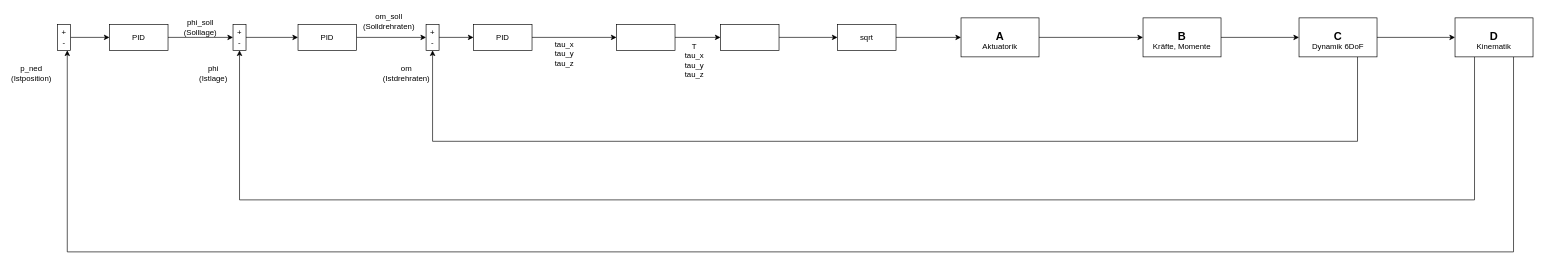
Some shapes in this 1544 by 268 pixel diagram are drawn without their labels. Here are the shapes that lost their labels. From the top down, the centre of each, then its label:
[645,37]: Momente
[749,37]: MIX_inv
